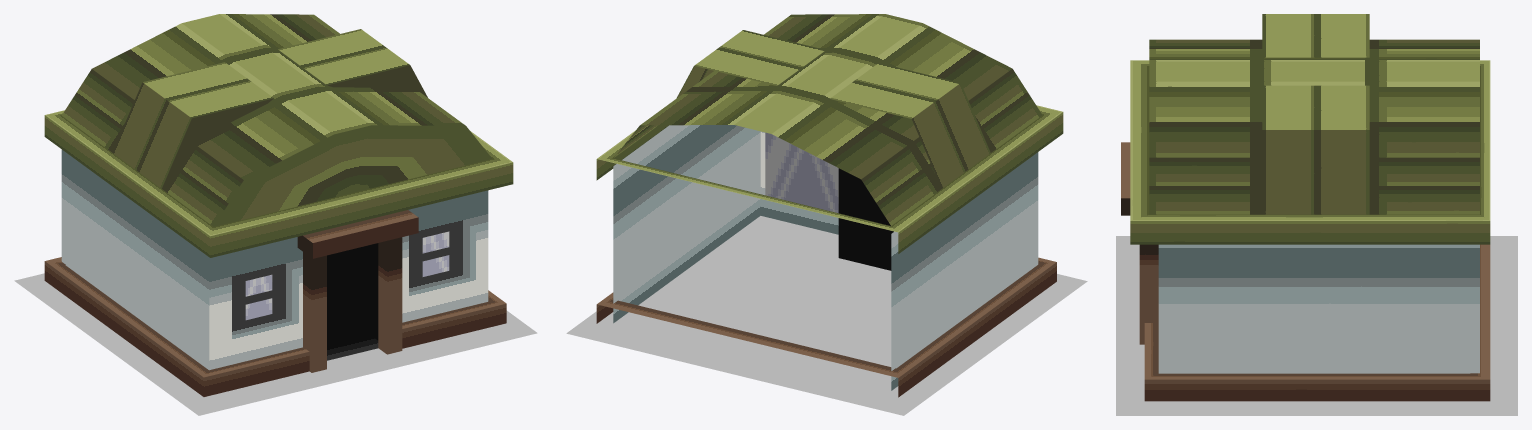
File: rr_sodateya_01.dae
The picture shows the model from 3 angles, left to right: view 1: azimuth 30°, elevation 25°; view 2: azimuth 150°, elevation 25°; view 3: azimuth 270°, elevation 25°; orthographic projection. The views are drawn at different scales.
Parts seen in each view (by area): view 1: rr_sodateya_01; view 2: rr_sodateya_01; view 3: rr_sodateya_01.
Part boxes in pixels (x1,y1,x2,y2): rr_sodateya_01: (14, 14, 537, 415); rr_sodateya_01: (566, 14, 1087, 415); rr_sodateya_01: (1116, 14, 1517, 415).
Size of the model in its own units: 89.93 by 59.21 by 84.86.
